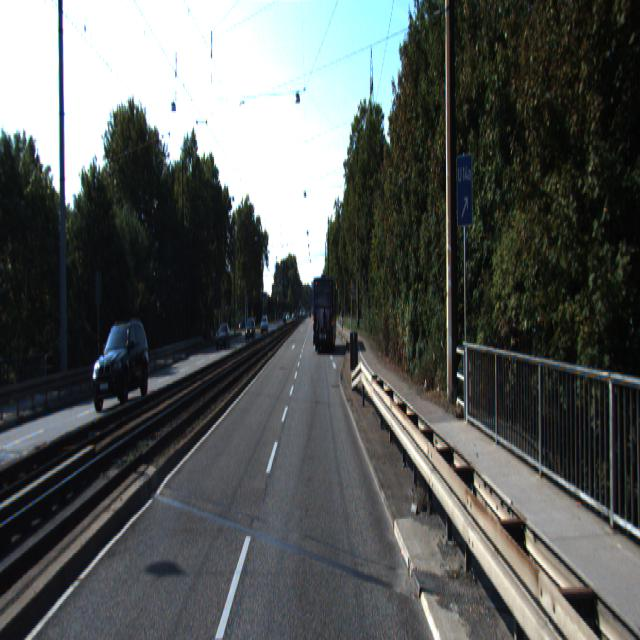Car: (90, 319, 151, 417), (312, 276, 338, 354)
